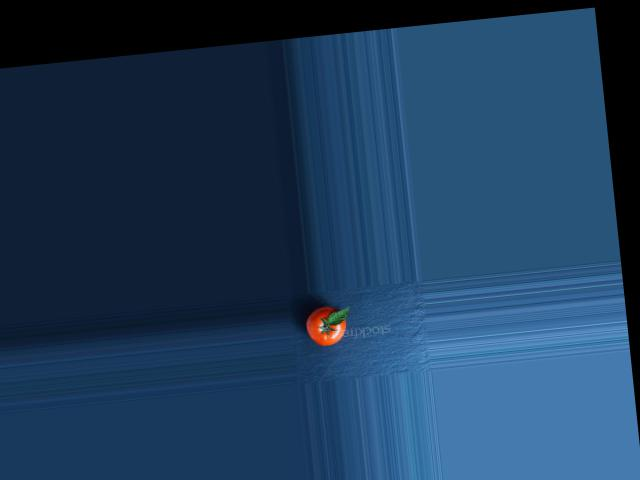tomato: (304, 304, 348, 347)
